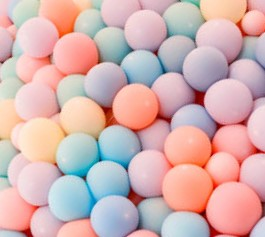Balloon: (205, 182, 263, 233), (161, 163, 210, 213), (112, 82, 158, 130), (91, 195, 139, 237), (204, 80, 250, 123), (48, 175, 91, 219), (165, 127, 209, 167), (57, 131, 97, 175), (129, 151, 167, 197), (53, 33, 96, 73), (184, 47, 226, 87), (21, 121, 59, 164), (60, 98, 105, 134), (124, 11, 165, 50), (87, 161, 130, 198), (19, 162, 56, 205), (15, 83, 58, 118), (18, 18, 56, 56), (84, 63, 120, 102), (206, 152, 239, 183), (102, 1, 141, 26), (241, 7, 265, 35)
